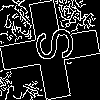S: (25, 25, 76, 66)
